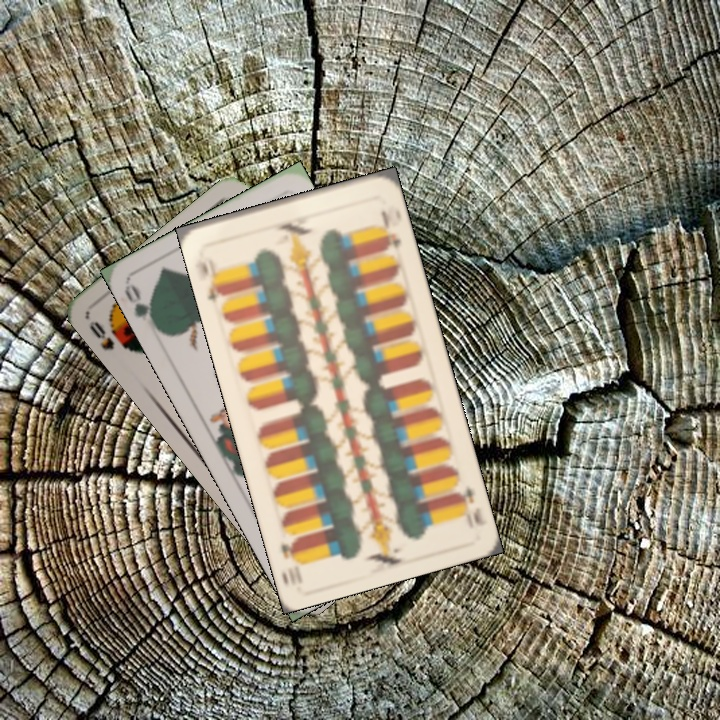E10: (192, 246, 229, 305), (450, 482, 487, 529)
GO: (120, 281, 163, 334)
SO: (85, 316, 135, 355)
